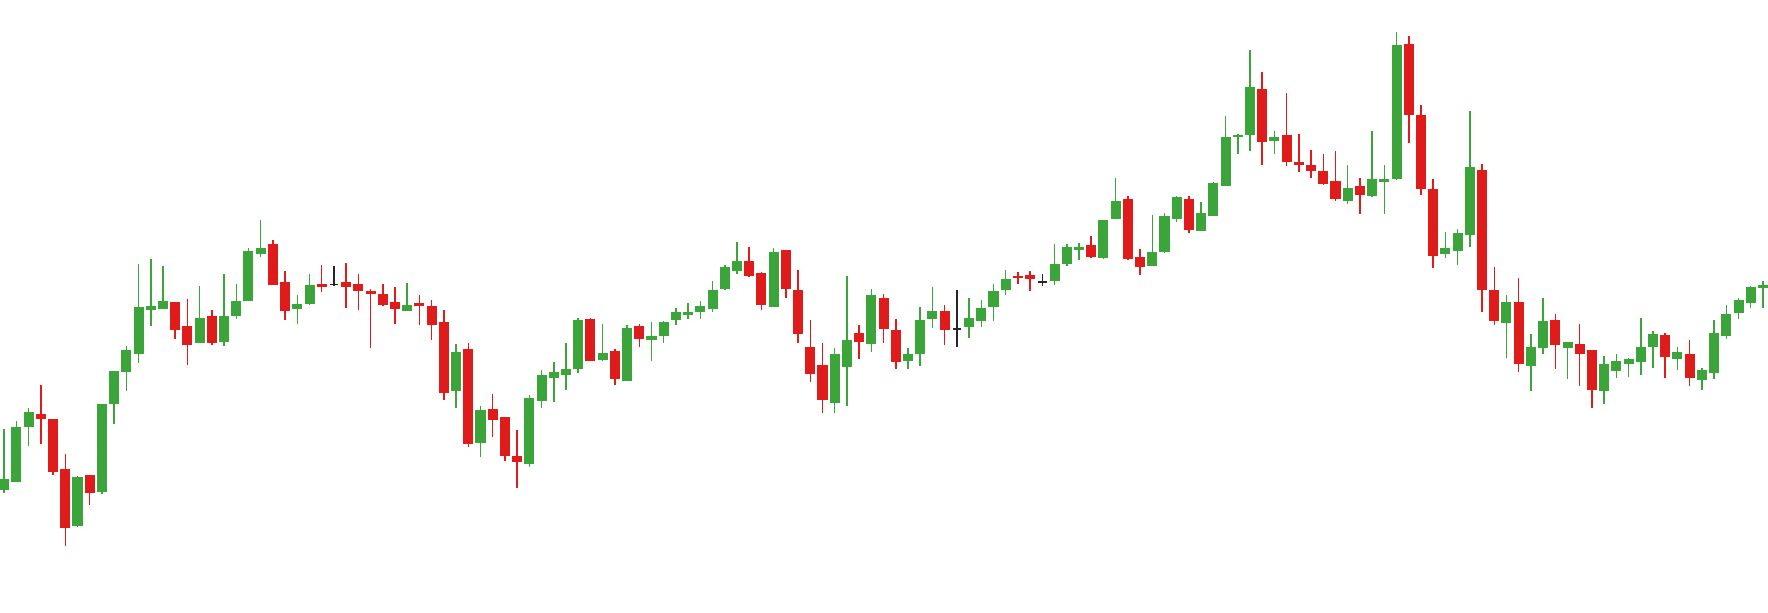sell: (1241, 27, 1418, 165), (154, 207, 281, 334)
